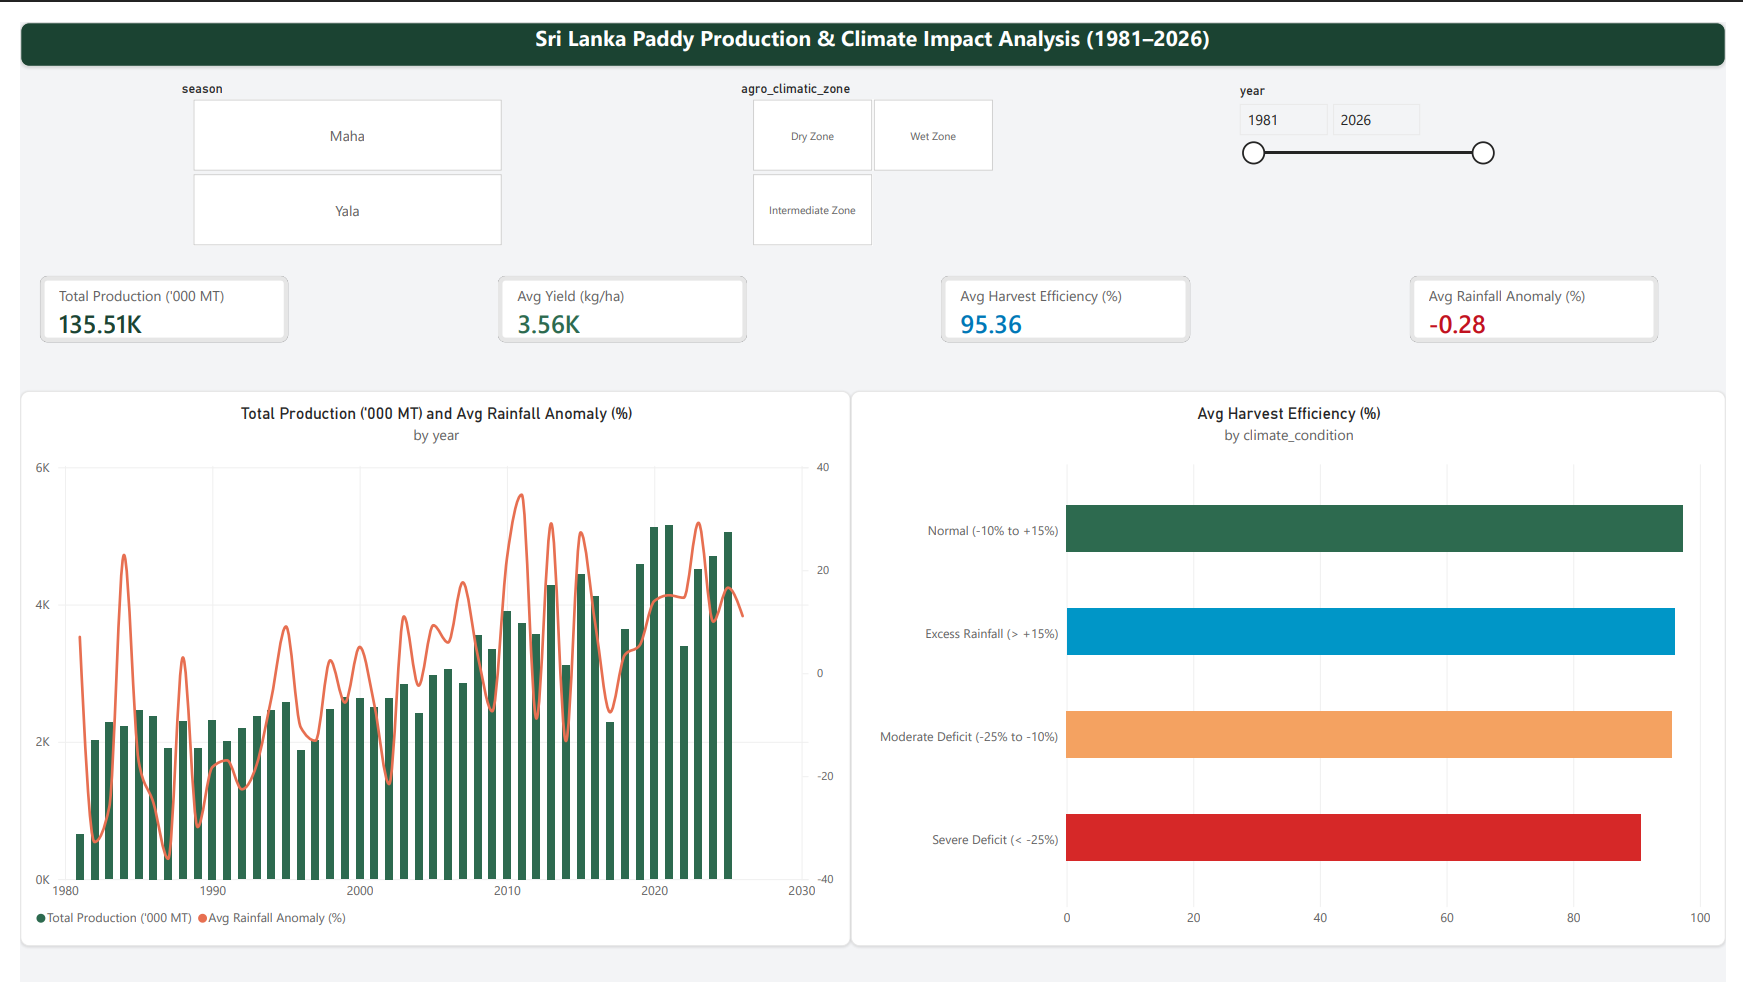

This screenshot's page, from the dashboard's own definition file:
{"tool":"powerbi","page":{"name":"1. Executive Overview","canvas":[1920,1080],"ordinal":0},"visuals":[{"type":"textbox","box":[0,0,1920,50],"z":0},{"type":"slicer","fields":{"Values":["Master_Paddy_Rainfall.season"]},"box":[174.2,67,386.9,185.9],"z":1},{"type":"slicer","fields":{"Values":["Master_Paddy_Rainfall.agro_climatic_zone"]},"box":[804,67,309.9,185.9],"z":2},{"type":"slicer","fields":{"Values":["Master_Paddy_Rainfall.year"]},"box":[1365.1,68.7,298.1,185.9],"z":3},{"type":"cardVisual","fields":{"Data":["Master_Paddy_Rainfall.Total Production ('000 MT)"]},"box":[21.8,284.7,280,75],"z":4},{"type":"cardVisual","fields":{"Data":["Master_Paddy_Rainfall.Avg Yield (kg/ha)"]},"box":[537.7,284.7,280,75],"z":5},{"type":"cardVisual","fields":{"Data":["Master_Paddy_Rainfall.Avg Harvest Efficiency (%)"]},"box":[1036.8,284.7,280,75],"z":6},{"type":"cardVisual","fields":{"Data":["Master_Paddy_Rainfall.Avg Rainfall Anomaly (%)"]},"box":[1564.4,284.7,280,75],"z":7},{"type":"lineStackedColumnComboChart","fields":{"Category":["Master_Paddy_Rainfall.year"],"Y":["Master_Paddy_Rainfall.Total Production ('000 MT)"],"Y2":["Master_Paddy_Rainfall.Avg Rainfall Anomaly (%)"]},"box":[0,415,935,625],"z":8},{"type":"clusteredBarChart","fields":{"Category":["Master_Paddy_Rainfall.climate_condition"],"Y":["Master_Paddy_Rainfall.Avg Harvest Efficiency (%)"]},"box":[935,415,985,625],"z":9}]}

Visuals, with their boxes in screenshot pixels (x1, y1, x2, y2), scaled from the page's 1920x1080 canvas onto the 1743x997 screenshot:
textbox: detection(0, 0, 1742, 46)
slicer - Master_Paddy_Rainfall.season: detection(158, 62, 509, 233)
slicer - Master_Paddy_Rainfall.agro_climatic_zone: detection(730, 62, 1011, 233)
slicer - Master_Paddy_Rainfall.year: detection(1239, 63, 1510, 235)
cardVisual - Master_Paddy_Rainfall.Total Production ('000 MT): detection(20, 263, 274, 332)
cardVisual - Master_Paddy_Rainfall.Avg Yield (kg/ha): detection(488, 263, 742, 332)
cardVisual - Master_Paddy_Rainfall.Avg Harvest Efficiency (%): detection(941, 263, 1195, 332)
cardVisual - Master_Paddy_Rainfall.Avg Rainfall Anomaly (%): detection(1420, 263, 1674, 332)
lineStackedColumnComboChart - Master_Paddy_Rainfall.year x Master_Paddy_Rainfall.Total Production ('000 MT): detection(0, 383, 849, 960)
clusteredBarChart - Master_Paddy_Rainfall.climate_condition x Master_Paddy_Rainfall.Avg Harvest Efficiency (%): detection(849, 383, 1742, 960)
